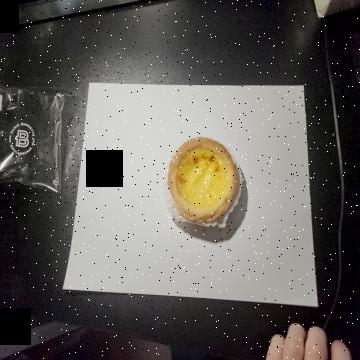EggTart: (168, 136, 238, 223)
